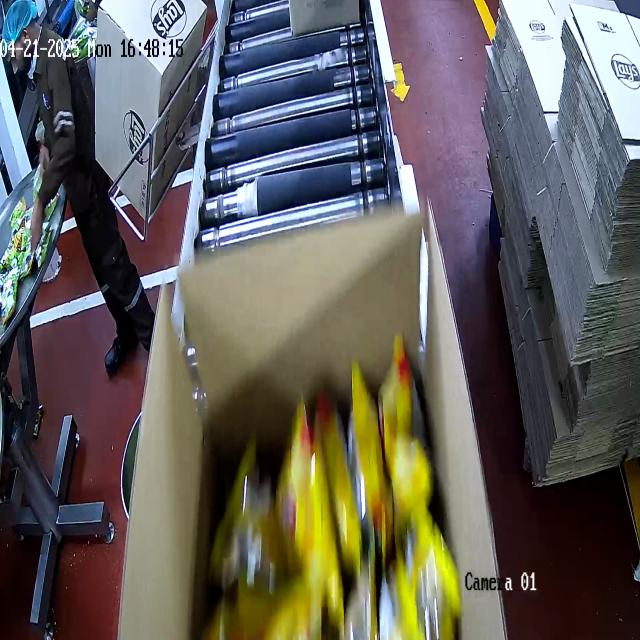SALTED: (202, 385, 454, 640)
